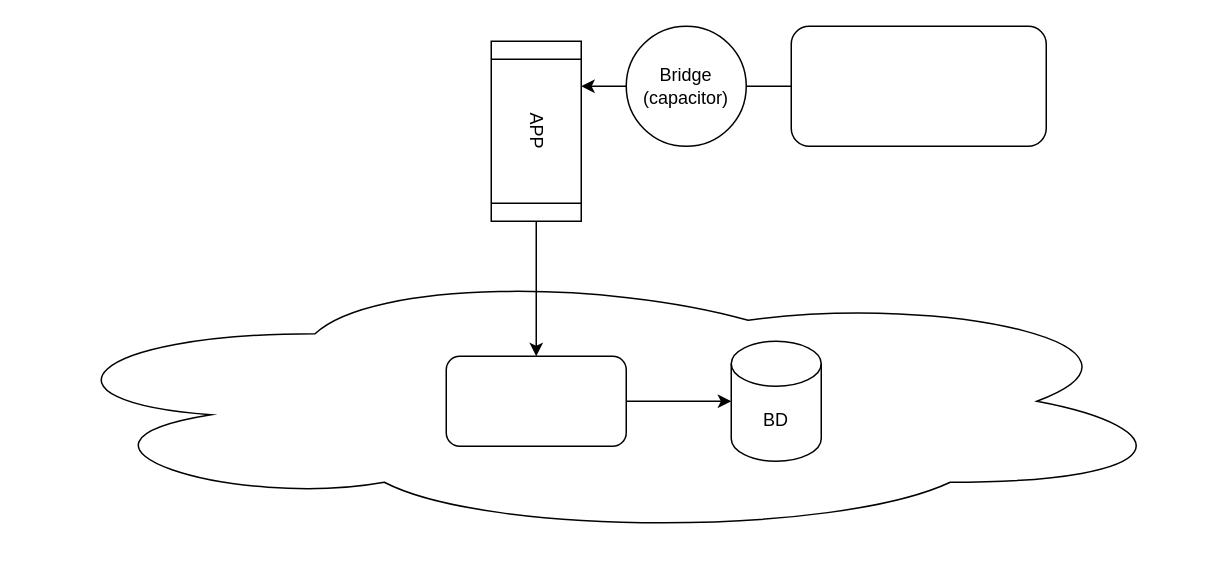
This 1208x563 diagram has some shape labels left out. Here are the shapes that lost their labels. From the top down, the centre of each, then its label:
the point at 918,85: Html, css, JS
the point at 535,400: Backend
